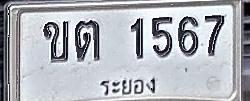1: (130, 17, 143, 59)
5: (152, 16, 173, 57)
6: (178, 15, 198, 56)
7: (204, 14, 224, 56)
A02: (42, 20, 68, 62)
A21: (74, 19, 100, 61)
RYG: (96, 75, 158, 95)
